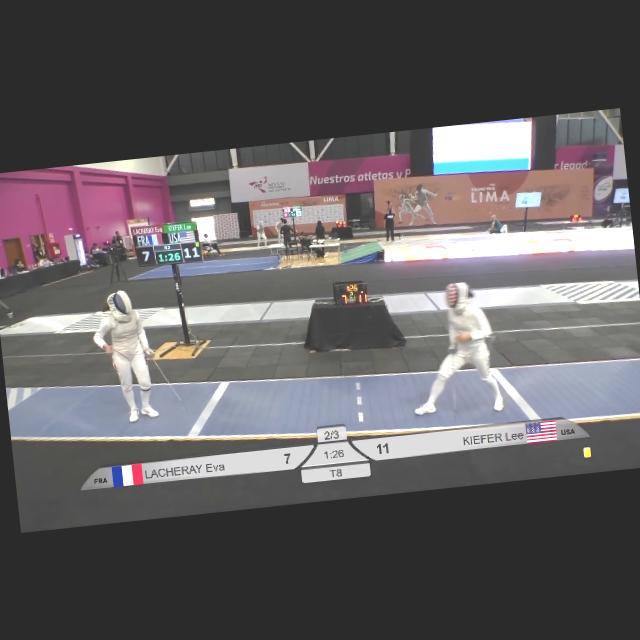blade: (146, 345, 190, 416), (444, 345, 465, 426)
